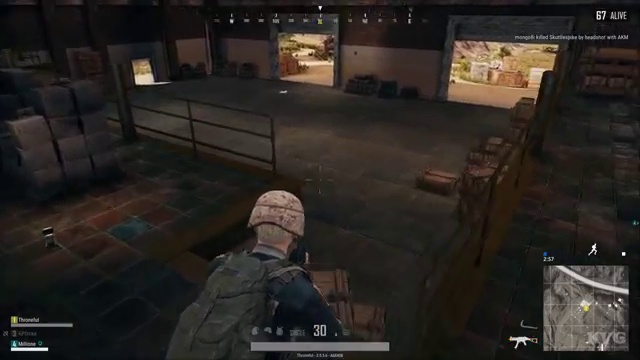Player: (169, 182, 361, 321)
